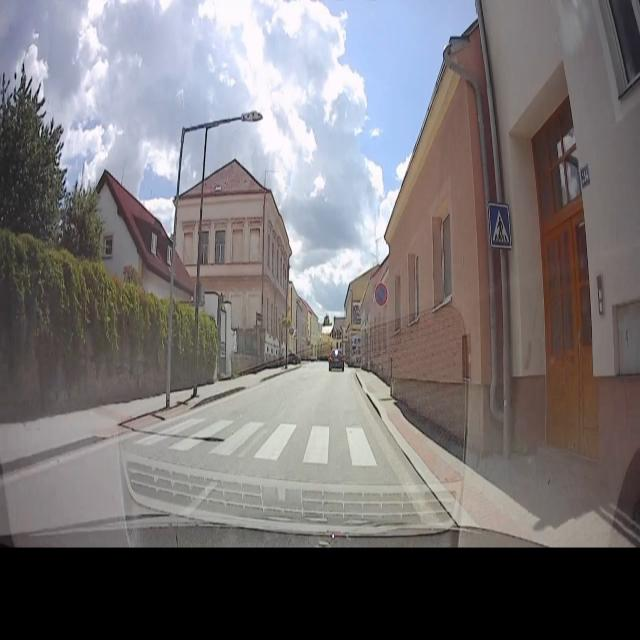Car: (328, 346, 346, 374)
Pedestrian crosswalk: (135, 414, 377, 463), (485, 199, 515, 252)
